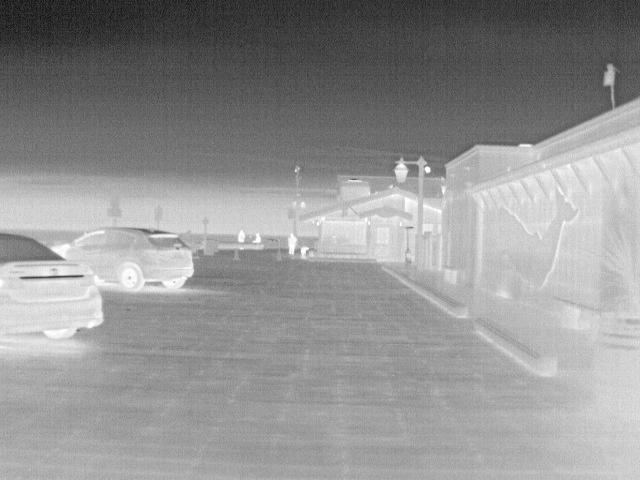car: (1, 233, 107, 341), (49, 224, 198, 294)
dog: (299, 243, 312, 257)
person: (286, 233, 301, 255), (236, 228, 249, 244), (250, 229, 264, 242)
